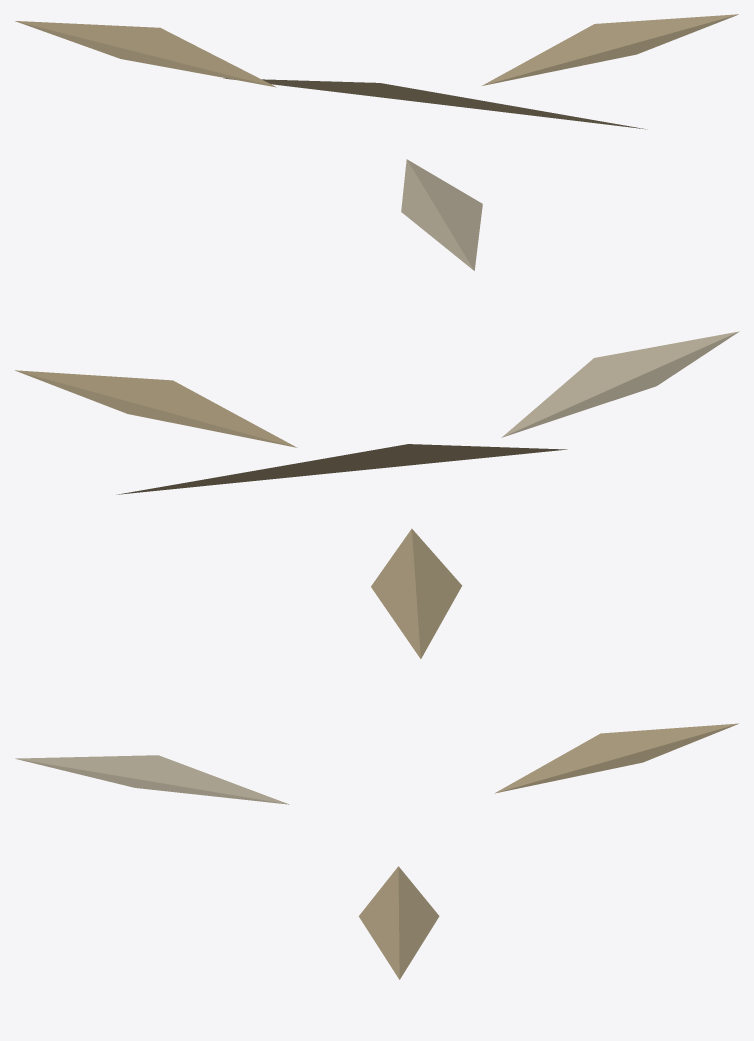
The model's file is shui.lian@withered__bloom.glb.
The picture shows the model from 3 angles, top to bottom: view 1: azimuth 30°, elevation 25°; view 2: azimuth 150°, elevation 25°; view 3: azimuth 270°, elevation 25°; orthographic projection. The views are drawn at different scales.
Parts seen in each view (by area): view 1: shui.lian@withered__bloom; view 2: shui.lian@withered__bloom; view 3: shui.lian@withered__bloom.
Part boxes in pixels (left/top/right/bottom): shui.lian@withered__bloom: left=15, top=14, right=738, bottom=270; shui.lian@withered__bloom: left=15, top=331, right=739, bottom=658; shui.lian@withered__bloom: left=15, top=723, right=738, bottom=979.
Bounding box in the file's own units: 0.5053 × 0.084 × 0.5098.
